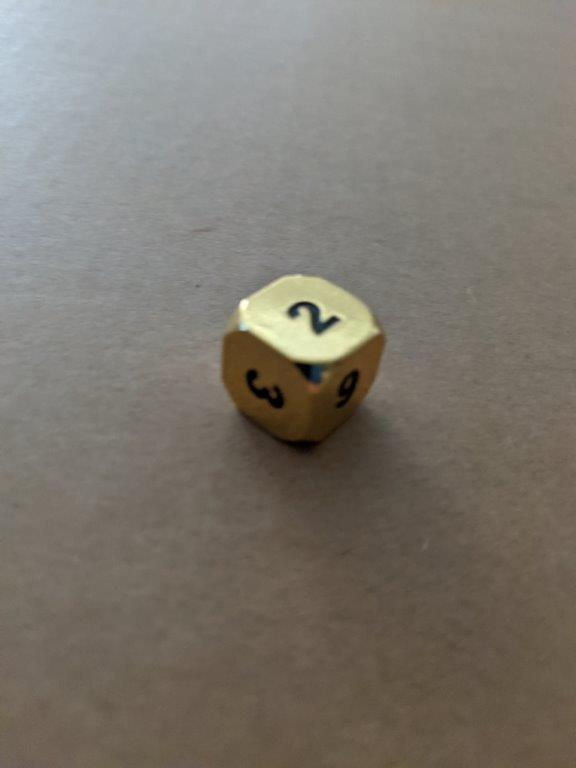d6-2: (220, 273, 389, 451)
